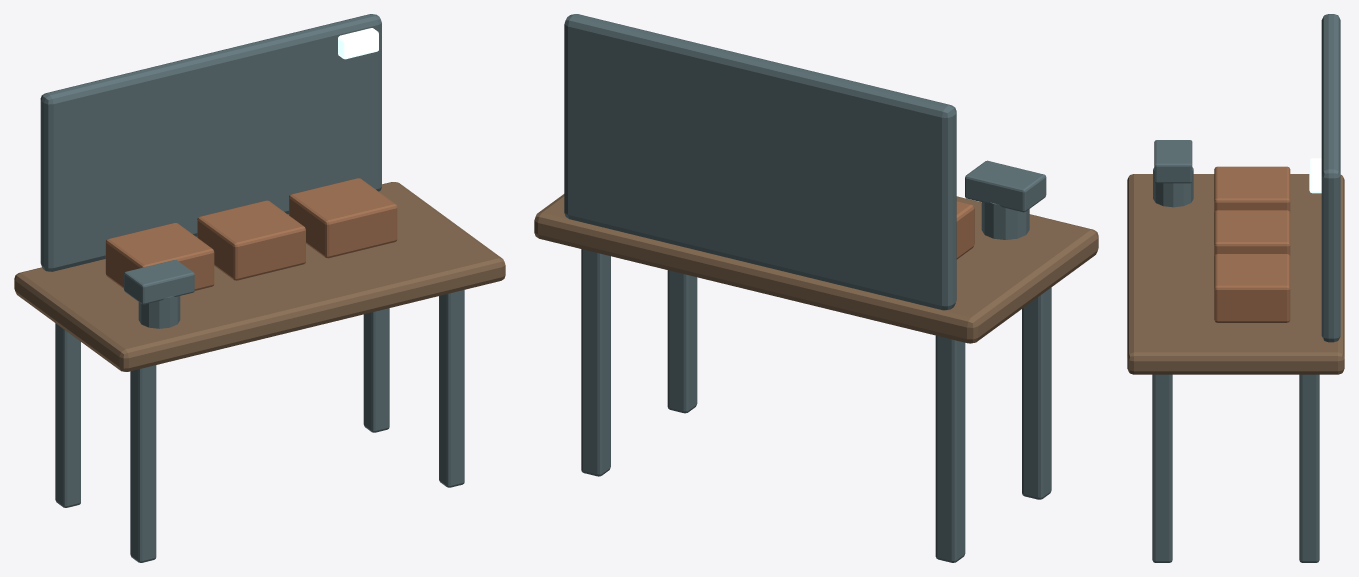
File: bench.glb
3 views of the same model, side by side, from view 1: azimuth 30°, elevation 25°; view 2: azimuth 150°, elevation 25°; view 3: azimuth 270°, elevation 25° (orthographic). The views are drawn at different scales.
Visible parts, largest first — view 1: Pegboard, Workbench top, Parts bin.001, Parts bin.002, Steel leg, Steel leg.002, Steel leg.001, Parts bin, Steel leg.003, Vise jaw, Vise base, Safe station light; view 2: Pegboard, Workbench top, Steel leg.001, Steel leg.003, Steel leg, Steel leg.002, Vise jaw, Vise base, Parts bin; view 3: Workbench top, Pegboard, Parts bin.002, Steel leg.002, Steel leg.003, Parts bin, Parts bin.001, Vise jaw, Vise base, Safe station light.
Boxes of the visible parts, left/top/right/bottom form: Pegboard: left=40, top=14, right=381, bottom=271; Workbench top: left=14, top=182, right=505, bottom=371; Parts bin.001: left=197, top=200, right=305, bottom=280; Parts bin.002: left=289, top=178, right=397, bottom=258; Steel leg: left=130, top=365, right=156, bottom=562; Steel leg.002: left=439, top=290, right=464, bottom=487; Steel leg.001: left=55, top=323, right=80, bottom=507; Parts bin: left=105, top=223, right=214, bottom=290; Steel leg.003: left=363, top=308, right=389, bottom=432; Vise jaw: left=124, top=260, right=194, bottom=304; Vise base: left=138, top=296, right=180, bottom=328; Safe station light: left=338, top=28, right=378, bottom=59; Pegboard: left=564, top=14, right=956, bottom=310; Workbench top: left=534, top=194, right=1098, bottom=343; Steel leg.001: left=935, top=335, right=965, bottom=562; Steel leg.003: left=581, top=249, right=610, bottom=476; Steel leg: left=1022, top=287, right=1051, bottom=499; Steel leg.002: left=667, top=270, right=697, bottom=413; Vise jaw: left=965, top=160, right=1046, bottom=212; Vise base: left=981, top=202, right=1029, bottom=239; Parts bin: left=956, top=201, right=974, bottom=259; Workbench top: left=1127, top=174, right=1344, bottom=374; Pegboard: left=1321, top=14, right=1340, bottom=342; Parts bin.002: left=1214, top=254, right=1290, bottom=322; Steel leg.002: left=1152, top=374, right=1172, bottom=562; Steel leg.003: left=1299, top=374, right=1319, bottom=562; Parts bin: left=1214, top=166, right=1290, bottom=212; Parts bin.001: left=1214, top=210, right=1290, bottom=255; Vise jaw: left=1154, top=140, right=1192, bottom=183; Vise base: left=1153, top=167, right=1193, bottom=207; Safe station light: left=1309, top=158, right=1321, bottom=193.
Size of the model in its own units: 1.6 by 1.6 by 0.8.
